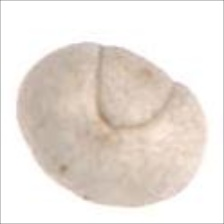L5: (90, 42, 181, 135)
L6: (14, 41, 209, 210)
